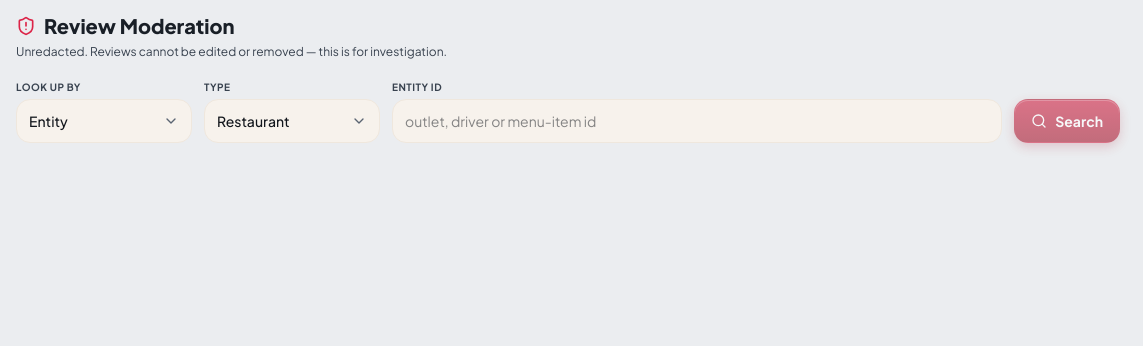
Test: AdminReviewsView › shows the author and the order a review came from
This screenshot has width=1143, height=346.
In the field named "Entity ID": [697, 121] box [392, 99, 1002, 143], type "77777777-7777-7777-7777-777777777777"
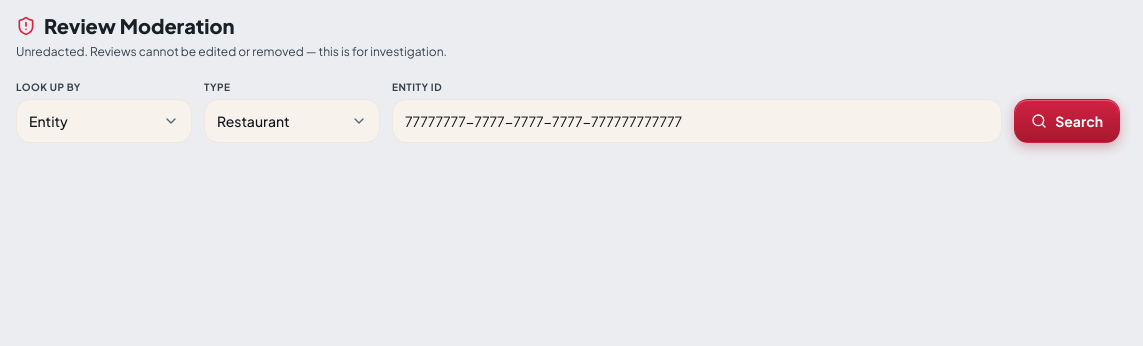
Click the button "Search": [1067, 121] box [1014, 99, 1120, 143]
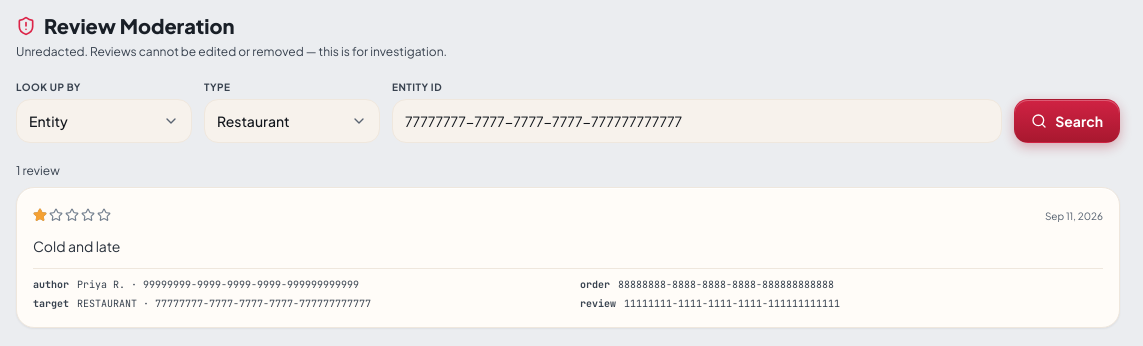
expect the text "Cold and late" is shown: met, box [33, 237, 120, 255]
expect the text "Priya R. · 99999999-9999-9999-9999-999999999999" is shown: met, box [77, 277, 359, 292]
expect the text "88888888-8888-8888-8888-888888888888" is shown: met, box [618, 277, 834, 292]
